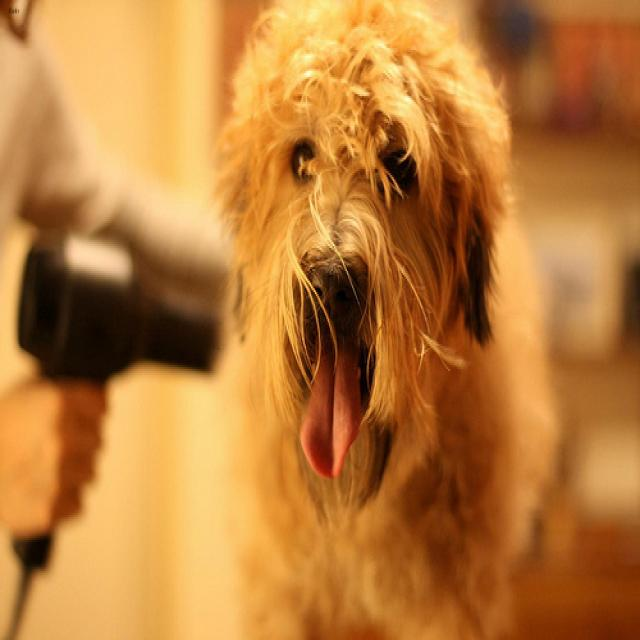dog-wheaten_terrier: (204, 2, 579, 636)
